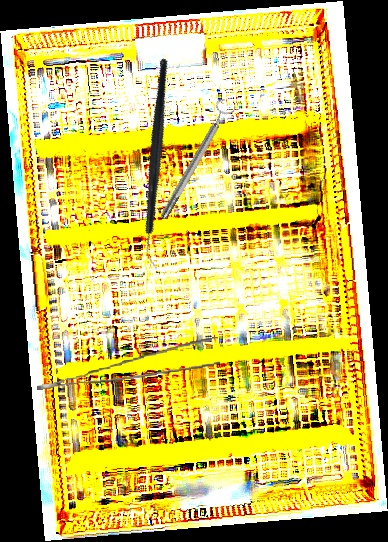Chopper: (78, 57, 240, 272)
Fixation Ring: (153, 96, 239, 223)
Tissue Forceps: (33, 337, 222, 390)
